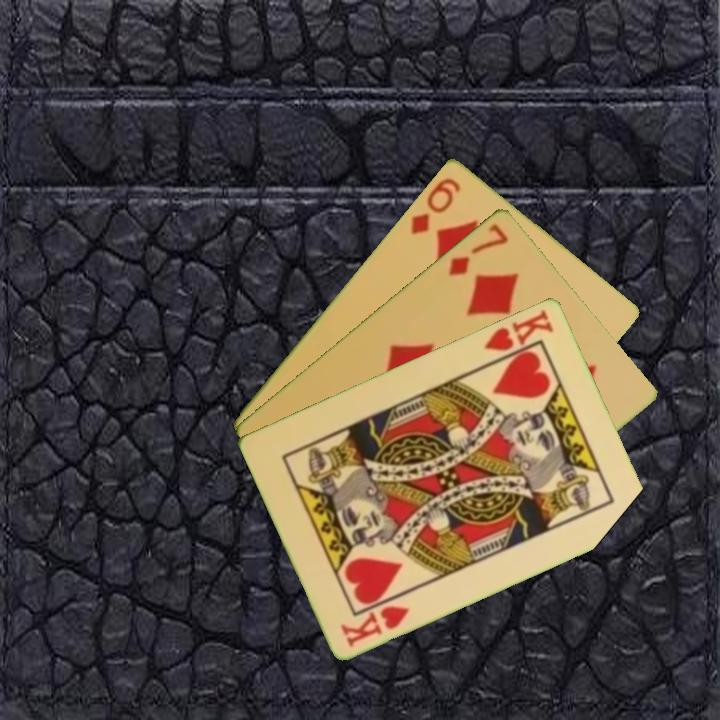6d: (407, 173, 464, 237)
7d: (444, 219, 512, 279)
Kh: (481, 305, 557, 366), (337, 601, 413, 650)
